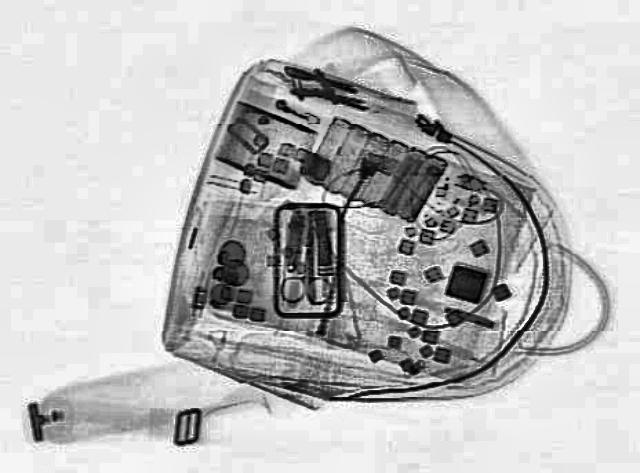Scissors: (278, 232, 334, 304)
